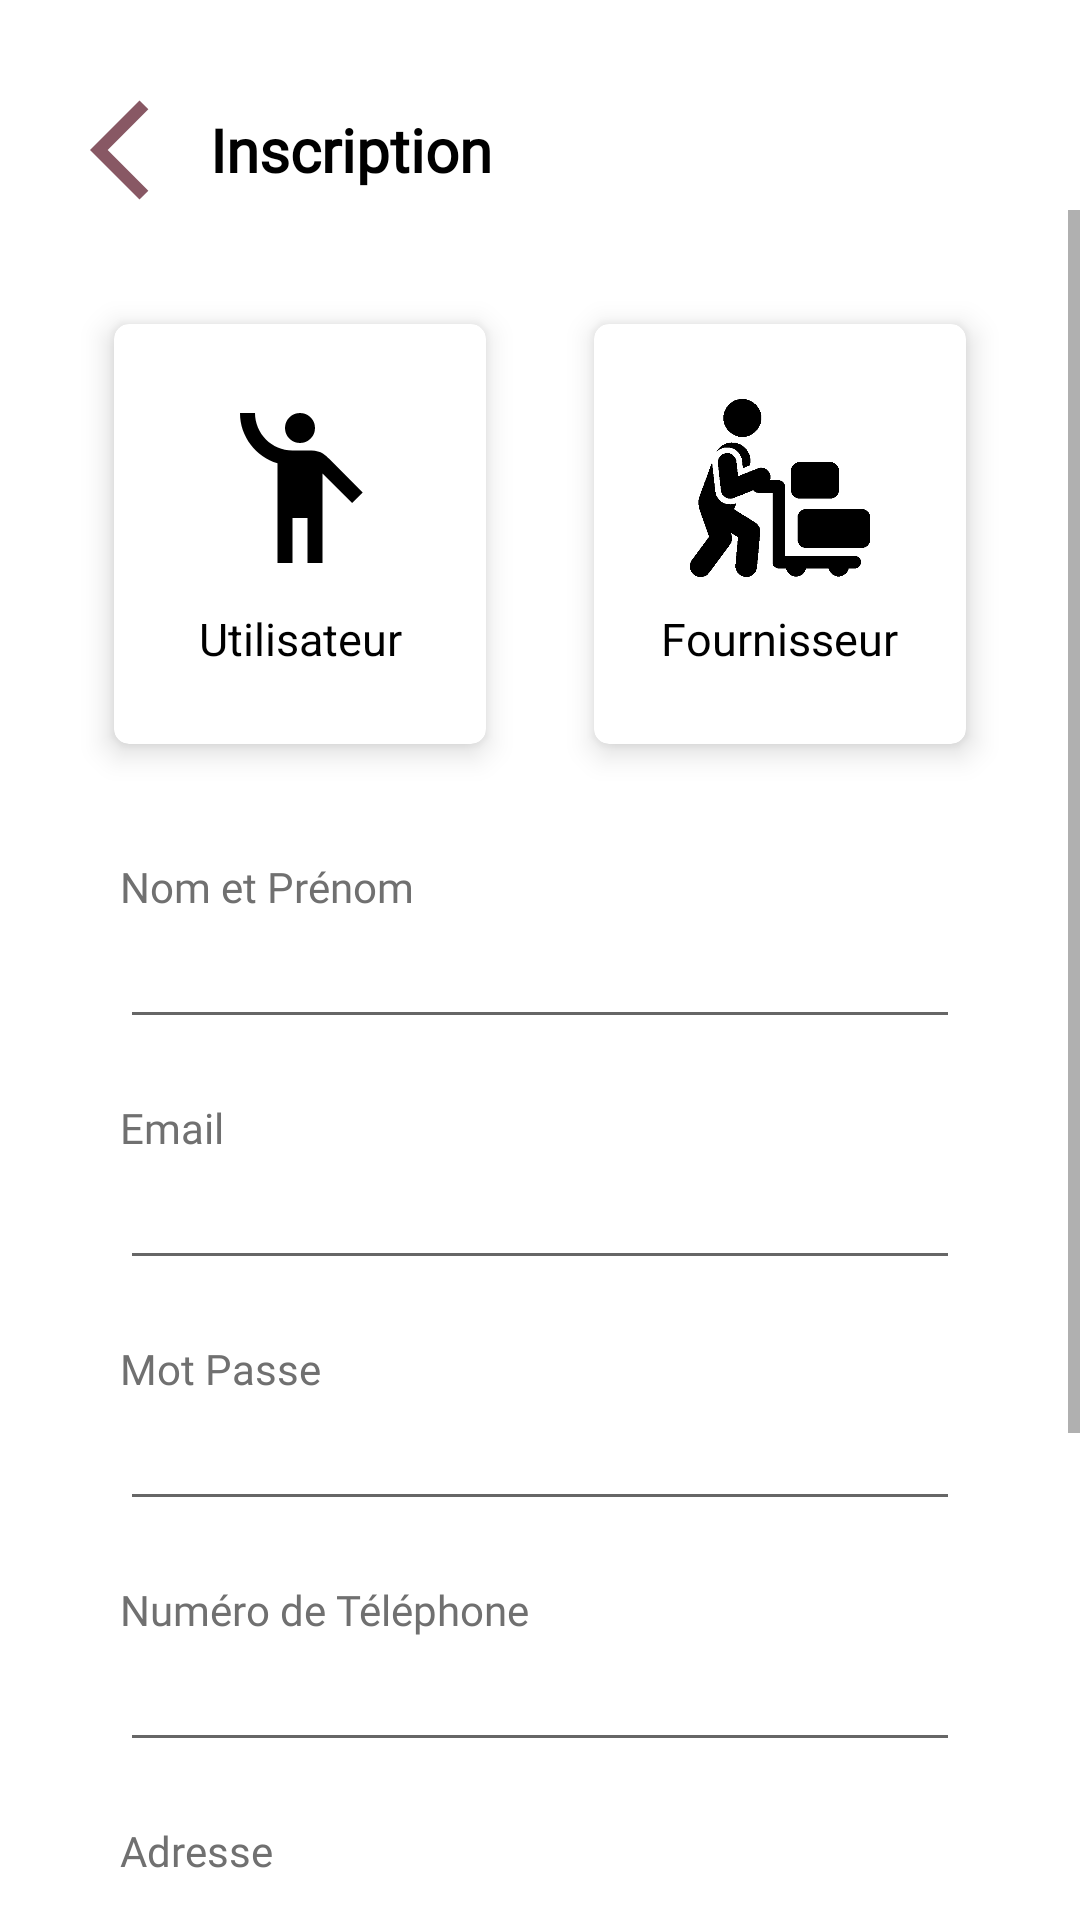

Icons on this 1080px x 1920px Android screen, each with the point to tap as (x=x, y=y):
arrow back: (x=119, y=150)
emoji people: (x=301, y=488)
